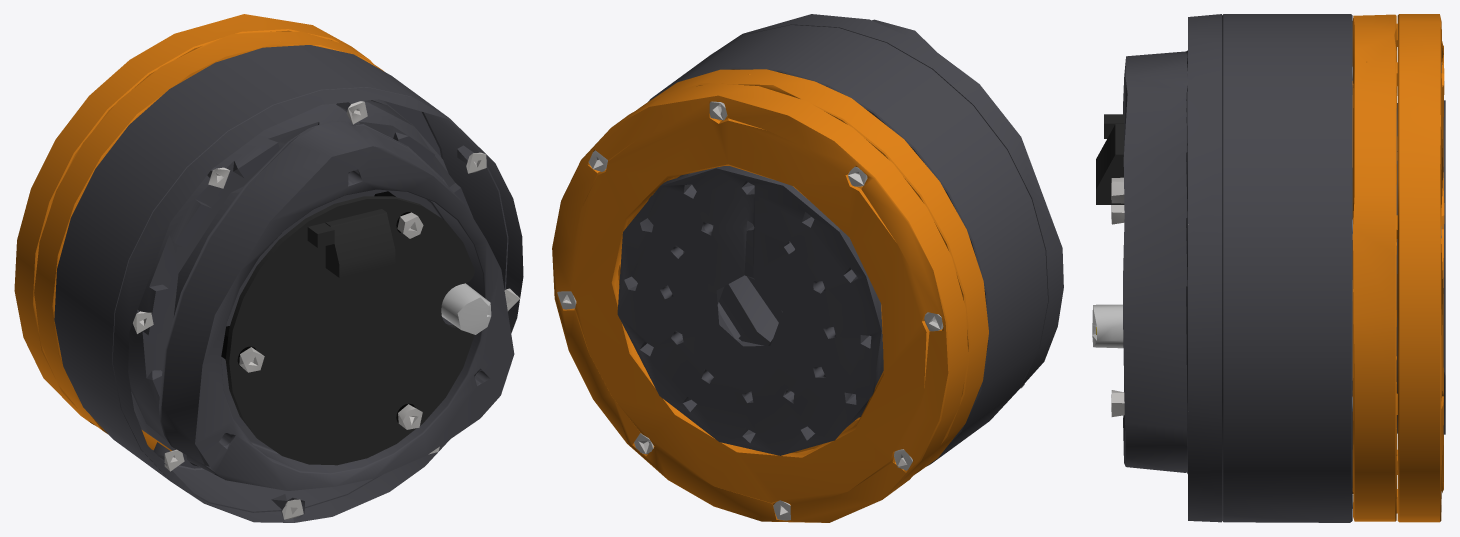
Rendered from motor2.dae.
The picture shows the model from 3 angles, left to right: view 1: azimuth 30°, elevation 25°; view 2: azimuth 150°, elevation 25°; view 3: azimuth 270°, elevation 25°; orthographic projection. The views are drawn at different scales.
Parts seen in each view (by area): view 1: motor2; view 2: motor2; view 3: motor2.
Part boxes in pixels (bbox=[...]): motor2: bbox=[14, 14, 523, 522]; motor2: bbox=[552, 14, 1063, 522]; motor2: bbox=[1092, 14, 1445, 522].
Size of the model in its own units: 0.105 by 0.073 by 0.1054.
